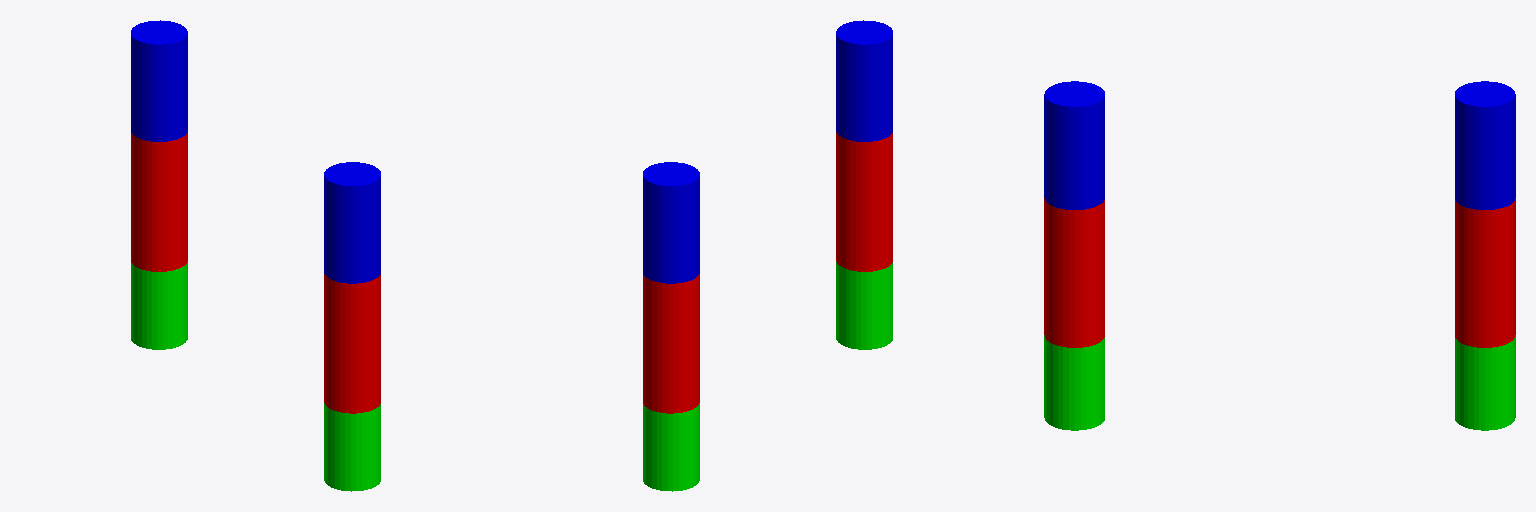
robot.urdf — human_model:
<?xml version="1.0" ?>
<!-- =================================================================================== -->
<!-- |    This document was autogenerated by xacro from human_model.urdf.xacro         | -->
<!-- |    EDITING THIS FILE BY HAND IS NOT RECOMMENDED                                 | -->
<!-- =================================================================================== -->
<robot name="human_model" xmlns:xacro="http://www.ros.org/wiki/xacro">
  <gazebo>
    <plugin filename="libgazebo_ros_control.so" name="gazebo_ros_control">
      <robotNamespace>/</robotNamespace>
      <robotSimType>gazebo_ros_control/DefaultRobotHWSim</robotSimType>
      <legacyModeNS>true</legacyModeNS>
    </plugin>
  </gazebo>
  <!-- The arm should be attached to world frame, 
     and the shoulder position should be specified by (x,y,z)
     via three prismatic joints.
-->
  <param name="pi" value="3.14159"/>
  <!-- World link-->
  <link name="world"/>
  <!-- Human model base -->
  <link name="human_base_link">
    <inertial>
      <origin rpy="0 0 0" xyz="0 0 0"/>
      <mass value="1"/>
      <inertia ixx="1.0" ixy="0.0" ixz="0.0" iyy="1.0" iyz="0.0" izz="1.0"/>
    </inertial>
  </link>
  <joint name="human_base_fixed_joint" type="fixed">
    <origin rpy="0 0 0" xyz="0 0 0"/>
    <parent link="world"/>
    <child link="human_base_link"/>
  </joint>
  <!-- Shoulder joints -->
  <link name="left_shoulder_1_link">
    <inertial>
      <origin rpy="0 0 0" xyz="0 0 0"/>
      <mass value="1"/>
      <inertia ixx="1.0" ixy="0.0" ixz="0.0" iyy="1.0" iyz="0.0" izz="1.0"/>
    </inertial>
  </link>
  <joint name="left_shoulder_1_joint" type="revolute">
    <origin rpy="0 0 0" xyz="0 0.27 1.3"/>
    <axis xyz="0 1 0"/>
    <parent link="human_base_link"/>
    <child link="left_shoulder_1_link"/>
    <limit effort="100" lower="-1.57079632679" upper="0.785398163397" velocity="100"/>
  </joint>
  <link name="left_shoulder_2_link">
    <inertial>
      <origin rpy="0 0 0" xyz="0 0 0"/>
      <mass value="1"/>
      <inertia ixx="1.0" ixy="0.0" ixz="0.0" iyy="1.0" iyz="0.0" izz="1.0"/>
    </inertial>
  </link>
  <joint name="left_shoulder_2_joint" type="revolute">
    <origin rpy="0 0 0" xyz="0 0 0"/>
    <axis xyz="-1 0 0"/>
    <parent link="left_shoulder_1_link"/>
    <child link="left_shoulder_2_link"/>
    <limit effort="100" lower="-1.57079632679" upper="1.57079632679" velocity="100"/>
  </joint>
  <link name="left_shoulder_3_link"/>
  <joint name="left_shoulder_3_joint" type="revolute">
    <origin rpy="0 0 0" xyz="0 0 0"/>
    <axis xyz="0 0 -1"/>
    <parent link="left_shoulder_2_link"/>
    <child link="left_shoulder_3_link"/>
    <limit effort="100" lower="-1.57079632679" upper="1.57079632679" velocity="100"/>
  </joint>
  <!-- Upperarm link -->
  <link name="left_upperarm_link">
    <visual>
      <origin rpy="0 0 0" xyz="0 0 0"/>
      <geometry>
        <cylinder length="0.15" radius="0.04"/>
      </geometry>
      <material name="blue">
        <color rgba="0 0 1 1"/>
      </material>
    </visual>
    <collision>
      <origin rpy="0 0 0" xyz="0 0 0"/>
      <geometry>
        <cylinder length="0.15" radius="0.04"/>
      </geometry>
    </collision>
    <inertial>
      <origin rpy="0 0 0" xyz="0 0 0"/>
      <mass value="1"/>
      <inertia ixx="1.0" ixy="0.0" ixz="0.0" iyy="1.0" iyz="0.0" izz="1.0"/>
    </inertial>
  </link>
  <joint name="left_upperarm_fixed_joint" type="fixed">
    <origin rpy="0 0 0" xyz="0 0 -0.075"/>
    <parent link="left_shoulder_3_link"/>
    <child link="left_upperarm_link"/>
  </joint>
  <!-- Elbow joints -->
  <link name="left_elbow_1_link">
    <inertial>
      <origin rpy="0 0 0" xyz="0 0 0"/>
      <mass value="1"/>
      <inertia ixx="1.0" ixy="0.0" ixz="0.0" iyy="1.0" iyz="0.0" izz="1.0"/>
    </inertial>
  </link>
  <joint name="left_elbow_1_joint" type="revolute">
    <origin rpy="0 0 0" xyz="0 0 -0.075"/>
    <axis xyz="-1 0 0"/>
    <parent link="left_upperarm_link"/>
    <child link="left_elbow_1_link"/>
    <limit effort="100" lower="0.0" upper="2.09439510239" velocity="100"/>
  </joint>
  <link name="left_elbow_2_link">
    <inertial>
      <origin rpy="0 0 0" xyz="0 0 0"/>
      <mass value="1"/>
      <inertia ixx="1.0" ixy="0.0" ixz="0.0" iyy="1.0" iyz="0.0" izz="1.0"/>
    </inertial>
  </link>
  <joint name="left_elbow_2_joint" type="revolute">
    <origin rpy="0 0 0" xyz="0 0 0"/>
    <axis xyz="0 0 -1"/>
    <parent link="left_elbow_1_link"/>
    <child link="left_elbow_2_link"/>
    <limit effort="100" lower="-3.14159265359" upper="3.14159265359" velocity="100"/>
  </joint>
  <!-- Forearm link -->
  <link name="left_forearm_link">
    <visual>
      <origin rpy="0 0 0" xyz="0 0 0"/>
      <geometry>
        <cylinder length="0.2" radius="0.04"/>
      </geometry>
      <material name="red">
        <color rgba="1 0 0 1"/>
      </material>
    </visual>
    <collision>
      <origin rpy="0 0 0" xyz="0 0 0"/>
      <geometry>
        <cylinder length="0.2" radius="0.04"/>
      </geometry>
    </collision>
    <inertial>
      <origin rpy="0 0 0" xyz="0 0 0"/>
      <mass value="1"/>
      <inertia ixx="1.0" ixy="0.0" ixz="0.0" iyy="1.0" iyz="0.0" izz="1.0"/>
    </inertial>
  </link>
  <joint name="left_forearm_fixed_joint" type="fixed">
    <origin rpy="0 0 0" xyz="0 0 -0.1"/>
    <parent link="left_elbow_2_link"/>
    <child link="left_forearm_link"/>
  </joint>
  <!-- Wrist joints -->
  <link name="left_wrist_1_link">
    <inertial>
      <origin rpy="0 0 0" xyz="0 0 0"/>
      <mass value="1"/>
      <inertia ixx="1.0" ixy="0.0" ixz="0.0" iyy="1.0" iyz="0.0" izz="1.0"/>
    </inertial>
  </link>
  <joint name="left_wrist_1_joint" type="revolute">
    <origin rpy="0 0 0" xyz="0 0 -0.1"/>
    <axis xyz="-1 0 0"/>
    <parent link="left_forearm_link"/>
    <child link="left_wrist_1_link"/>
    <limit effort="100" lower="-1.57079632679" upper="1.57079632679" velocity="100"/>
  </joint>
  <link name="left_wrist_2_link">
    <inertial>
      <origin rpy="0 0 0" xyz="0 0 0"/>
      <mass value="1"/>
      <inertia ixx="1.0" ixy="0.0" ixz="0.0" iyy="1.0" iyz="0.0" izz="1.0"/>
    </inertial>
  </link>
  <joint name="left_wrist_2_joint" type="revolute">
    <origin rpy="0 0 0" xyz="0 0 0"/>
    <axis xyz="0 1 0"/>
    <parent link="left_wrist_1_link"/>
    <child link="left_wrist_2_link"/>
    <limit effort="100" lower="-0.785398163397" upper="0.785398163397" velocity="100"/>
  </joint>
  <!-- Hand link -->
  <link name="left_hand_link">
    <visual>
      <origin rpy="0 0 0" xyz="0 0 0"/>
      <geometry>
        <cylinder length="0.12" radius="0.04"/>
      </geometry>
      <material name="green">
        <color rgba="0 1 0 1"/>
      </material>
    </visual>
    <collision>
      <origin rpy="0 0 0" xyz="0 0 0"/>
      <geometry>
        <cylinder length="0.12" radius="0.04"/>
      </geometry>
    </collision>
    <inertial>
      <origin rpy="0 0 0" xyz="0 0 0"/>
      <mass value="1"/>
      <inertia ixx="1.0" ixy="0.0" ixz="0.0" iyy="1.0" iyz="0.0" izz="1.0"/>
    </inertial>
  </link>
  <joint name="left_hand_fixed_joint" type="fixed">
    <origin rpy="0 0 0" xyz="0 0 -0.06"/>
    <parent link="left_wrist_2_link"/>
    <child link="left_hand_link"/>
  </joint>
  <!-- Virtual hand tip -->
  <link name="left_virtual_hand_tip_link"/>
  <joint name="left_hand_tip_fixed_joint" type="fixed">
    <origin rpy="0 0 0" xyz="0 0 -0.06"/>
    <parent link="left_hand_link"/>
    <child link="left_virtual_hand_tip_link"/>
  </joint>
  <!-- Transmission information -->
  <!-- Shoulder joints -->
  <transmission name="left_shoulder_1_trans">
    <type>transmission_interface/SimpleTransmission</type>
    <joint name="left_shoulder_1_joint">
      <hardwareInterface>hardware_interface/PositionJointInterface</hardwareInterface>
    </joint>
    <actuator name="left_shoulder_1_actuator">
      <hardwareInterface>hardware_interface/PositionJointInterface</hardwareInterface>
      <mechanicalReduction>1</mechanicalReduction>
    </actuator>
  </transmission>
  <transmission name="left_shoulder_2_trans">
    <type>transmission_interface/SimpleTransmission</type>
    <joint name="left_shoulder_2_joint">
      <hardwareInterface>hardware_interface/PositionJointInterface</hardwareInterface>
    </joint>
    <actuator name="left_shoulder_2_actuator">
      <hardwareInterface>hardware_interface/PositionJointInterface</hardwareInterface>
      <mechanicalReduction>1</mechanicalReduction>
    </actuator>
  </transmission>
  <transmission name="left_shoulder_3_trans">
    <type>transmission_interface/SimpleTransmission</type>
    <joint name="left_shoulder_3_joint">
      <hardwareInterface>hardware_interface/PositionJointInterface</hardwareInterface>
    </joint>
    <actuator name="left_shoulder_3_actuator">
      <hardwareInterface>hardware_interface/PositionJointInterface</hardwareInterface>
      <mechanicalReduction>1</mechanicalReduction>
    </actuator>
  </transmission>
  <!-- Elbow joints -->
  <transmission name="left_elbow_1_trans">
    <type>transmission_interface/SimpleTransmission</type>
    <joint name="left_elbow_1_joint">
      <hardwareInterface>hardware_interface/PositionJointInterface</hardwareInterface>
    </joint>
    <actuator name="left_elbow_1_actuator">
      <hardwareInterface>hardware_interface/PositionJointInterface</hardwareInterface>
      <mechanicalReduction>1</mechanicalReduction>
    </actuator>
  </transmission>
  <transmission name="left_elbow_2_trans">
    <type>transmission_interface/SimpleTransmission</type>
    <joint name="left_elbow_2_joint">
      <hardwareInterface>hardware_interface/PositionJointInterface</hardwareInterface>
    </joint>
    <actuator name="left_elbow_2_actuator">
      <hardwareInterface>hardware_interface/PositionJointInterface</hardwareInterface>
      <mechanicalReduction>1</mechanicalReduction>
    </actuator>
  </transmission>
  <!-- Wrist joints -->
  <transmission name="left_wrist_1_trans">
    <type>transmission_interface/SimpleTransmission</type>
    <joint name="left_wrist_1_joint">
      <hardwareInterface>hardware_interface/PositionJointInterface</hardwareInterface>
    </joint>
    <actuator name="left_wrist_1_actuator">
      <hardwareInterface>hardware_interface/PositionJointInterface</hardwareInterface>
      <mechanicalReduction>1</mechanicalReduction>
    </actuator>
  </transmission>
  <transmission name="left_wrist_2_trans">
    <type>transmission_interface/SimpleTransmission</type>
    <joint name="left_wrist_2_joint">
      <hardwareInterface>hardware_interface/PositionJointInterface</hardwareInterface>
    </joint>
    <actuator name="left_wrist_2_actuator">
      <hardwareInterface>hardware_interface/PositionJointInterface</hardwareInterface>
      <mechanicalReduction>1</mechanicalReduction>
    </actuator>
  </transmission>
  <!-- Shoulder joints -->
  <link name="right_shoulder_1_link">
    <inertial>
      <origin rpy="0 0 0" xyz="0 0 0"/>
      <mass value="1"/>
      <inertia ixx="1.0" ixy="0.0" ixz="0.0" iyy="1.0" iyz="0.0" izz="1.0"/>
    </inertial>
  </link>
  <joint name="right_shoulder_1_joint" type="revolute">
    <origin rpy="0 0 0" xyz="0 -0.27 1.3"/>
    <axis xyz="0 1 0"/>
    <parent link="human_base_link"/>
    <child link="right_shoulder_1_link"/>
    <limit effort="100" lower="-1.57079632679" upper="0.785398163397" velocity="100"/>
  </joint>
  <link name="right_shoulder_2_link">
    <inertial>
      <origin rpy="0 0 0" xyz="0 0 0"/>
      <mass value="1"/>
      <inertia ixx="1.0" ixy="0.0" ixz="0.0" iyy="1.0" iyz="0.0" izz="1.0"/>
    </inertial>
  </link>
  <joint name="right_shoulder_2_joint" type="revolute">
    <origin rpy="0 0 0" xyz="0 0 0"/>
    <axis xyz="1 0 0"/>
    <parent link="right_shoulder_1_link"/>
    <child link="right_shoulder_2_link"/>
    <limit effort="100" lower="-1.57079632679" upper="1.57079632679" velocity="100"/>
  </joint>
  <link name="right_shoulder_3_link"/>
  <joint name="right_shoulder_3_joint" type="revolute">
    <origin rpy="0 0 0" xyz="0 0 0"/>
    <axis xyz="0 0 1"/>
    <parent link="right_shoulder_2_link"/>
    <child link="right_shoulder_3_link"/>
    <limit effort="100" lower="-1.57079632679" upper="1.57079632679" velocity="100"/>
  </joint>
  <!-- Upperarm link -->
  <link name="right_upperarm_link">
    <visual>
      <origin rpy="0 0 0" xyz="0 0 0"/>
      <geometry>
        <cylinder length="0.15" radius="0.04"/>
      </geometry>
      <material name="blue">
        <color rgba="0 0 1 1"/>
      </material>
    </visual>
    <collision>
      <origin rpy="0 0 0" xyz="0 0 0"/>
      <geometry>
        <cylinder length="0.15" radius="0.04"/>
      </geometry>
    </collision>
    <inertial>
      <origin rpy="0 0 0" xyz="0 0 0"/>
      <mass value="1"/>
      <inertia ixx="1.0" ixy="0.0" ixz="0.0" iyy="1.0" iyz="0.0" izz="1.0"/>
    </inertial>
  </link>
  <joint name="right_upperarm_fixed_joint" type="fixed">
    <origin rpy="0 0 0" xyz="0 0 -0.075"/>
    <parent link="right_shoulder_3_link"/>
    <child link="right_upperarm_link"/>
  </joint>
  <!-- Elbow joints -->
  <link name="right_elbow_1_link">
    <inertial>
      <origin rpy="0 0 0" xyz="0 0 0"/>
      <mass value="1"/>
      <inertia ixx="1.0" ixy="0.0" ixz="0.0" iyy="1.0" iyz="0.0" izz="1.0"/>
    </inertial>
  </link>
  <joint name="right_elbow_1_joint" type="revolute">
    <origin rpy="0 0 0" xyz="0 0 -0.075"/>
    <axis xyz="1 0 0"/>
    <parent link="right_upperarm_link"/>
    <child link="right_elbow_1_link"/>
    <limit effort="100" lower="0.0" upper="2.09439510239" velocity="100"/>
  </joint>
  <link name="right_elbow_2_link">
    <inertial>
      <origin rpy="0 0 0" xyz="0 0 0"/>
      <mass value="1"/>
      <inertia ixx="1.0" ixy="0.0" ixz="0.0" iyy="1.0" iyz="0.0" izz="1.0"/>
    </inertial>
  </link>
  <joint name="right_elbow_2_joint" type="revolute">
    <origin rpy="0 0 0" xyz="0 0 0"/>
    <axis xyz="0 0 1"/>
    <parent link="right_elbow_1_link"/>
    <child link="right_elbow_2_link"/>
    <limit effort="100" lower="-3.14159265359" upper="3.14159265359" velocity="100"/>
  </joint>
  <!-- Forearm link -->
  <link name="right_forearm_link">
    <visual>
      <origin rpy="0 0 0" xyz="0 0 0"/>
      <geometry>
        <cylinder length="0.2" radius="0.04"/>
      </geometry>
      <material name="red">
        <color rgba="1 0 0 1"/>
      </material>
    </visual>
    <collision>
      <origin rpy="0 0 0" xyz="0 0 0"/>
      <geometry>
        <cylinder length="0.2" radius="0.04"/>
      </geometry>
    </collision>
    <inertial>
      <origin rpy="0 0 0" xyz="0 0 0"/>
      <mass value="1"/>
      <inertia ixx="1.0" ixy="0.0" ixz="0.0" iyy="1.0" iyz="0.0" izz="1.0"/>
    </inertial>
  </link>
  <joint name="right_forearm_fixed_joint" type="fixed">
    <origin rpy="0 0 0" xyz="0 0 -0.1"/>
    <parent link="right_elbow_2_link"/>
    <child link="right_forearm_link"/>
  </joint>
  <!-- Wrist joints -->
  <link name="right_wrist_1_link">
    <inertial>
      <origin rpy="0 0 0" xyz="0 0 0"/>
      <mass value="1"/>
      <inertia ixx="1.0" ixy="0.0" ixz="0.0" iyy="1.0" iyz="0.0" izz="1.0"/>
    </inertial>
  </link>
  <joint name="right_wrist_1_joint" type="revolute">
    <origin rpy="0 0 0" xyz="0 0 -0.1"/>
    <axis xyz="1 0 0"/>
    <parent link="right_forearm_link"/>
    <child link="right_wrist_1_link"/>
    <limit effort="100" lower="-1.57079632679" upper="1.57079632679" velocity="100"/>
  </joint>
  <link name="right_wrist_2_link">
    <inertial>
      <origin rpy="0 0 0" xyz="0 0 0"/>
      <mass value="1"/>
      <inertia ixx="1.0" ixy="0.0" ixz="0.0" iyy="1.0" iyz="0.0" izz="1.0"/>
    </inertial>
  </link>
  <joint name="right_wrist_2_joint" type="revolute">
    <origin rpy="0 0 0" xyz="0 0 0"/>
    <axis xyz="0 1 0"/>
    <parent link="right_wrist_1_link"/>
    <child link="right_wrist_2_link"/>
    <limit effort="100" lower="-0.785398163397" upper="0.785398163397" velocity="100"/>
  </joint>
  <!-- Hand link -->
  <link name="right_hand_link">
    <visual>
      <origin rpy="0 0 0" xyz="0 0 0"/>
      <geometry>
        <cylinder length="0.12" radius="0.04"/>
      </geometry>
      <material name="green">
        <color rgba="0 1 0 1"/>
      </material>
    </visual>
    <collision>
      <origin rpy="0 0 0" xyz="0 0 0"/>
      <geometry>
        <cylinder length="0.12" radius="0.04"/>
      </geometry>
    </collision>
    <inertial>
      <origin rpy="0 0 0" xyz="0 0 0"/>
      <mass value="1"/>
      <inertia ixx="1.0" ixy="0.0" ixz="0.0" iyy="1.0" iyz="0.0" izz="1.0"/>
    </inertial>
  </link>
  <joint name="right_hand_fixed_joint" type="fixed">
    <origin rpy="0 0 0" xyz="0 0 -0.06"/>
    <parent link="right_wrist_2_link"/>
    <child link="right_hand_link"/>
  </joint>
  <!-- Virtual hand tip -->
  <link name="right_virtual_hand_tip_link"/>
  <joint name="right_hand_tip_fixed_joint" type="fixed">
    <origin rpy="0 0 0" xyz="0 0 -0.06"/>
    <parent link="right_hand_link"/>
    <child link="right_virtual_hand_tip_link"/>
  </joint>
  <!-- Transmission information -->
  <!-- Shoulder joints -->
  <transmission name="right_shoulder_1_trans">
    <type>transmission_interface/SimpleTransmission</type>
    <joint name="right_shoulder_1_joint">
      <hardwareInterface>hardware_interface/PositionJointInterface</hardwareInterface>
    </joint>
    <actuator name="right_shoulder_1_actuator">
      <hardwareInterface>hardware_interface/PositionJointInterface</hardwareInterface>
      <mechanicalReduction>1</mechanicalReduction>
    </actuator>
  </transmission>
  <transmission name="right_shoulder_2_trans">
    <type>transmission_interface/SimpleTransmission</type>
    <joint name="right_shoulder_2_joint">
      <hardwareInterface>hardware_interface/PositionJointInterface</hardwareInterface>
    </joint>
    <actuator name="right_shoulder_2_actuator">
      <hardwareInterface>hardware_interface/PositionJointInterface</hardwareInterface>
      <mechanicalReduction>1</mechanicalReduction>
    </actuator>
  </transmission>
  <transmission name="right_shoulder_3_trans">
    <type>transmission_interface/SimpleTransmission</type>
    <joint name="right_shoulder_3_joint">
      <hardwareInterface>hardware_interface/PositionJointInterface</hardwareInterface>
    </joint>
    <actuator name="right_shoulder_3_actuator">
      <hardwareInterface>hardware_interface/PositionJointInterface</hardwareInterface>
      <mechanicalReduction>1</mechanicalReduction>
    </actuator>
  </transmission>
  <!-- Elbow joints -->
  <transmission name="right_elbow_1_trans">
    <type>transmission_interface/SimpleTransmission</type>
    <joint name="right_elbow_1_joint">
      <hardwareInterface>hardware_interface/PositionJointInterface</hardwareInterface>
    </joint>
    <actuator name="right_elbow_1_actuator">
      <hardwareInterface>hardware_interface/PositionJointInterface</hardwareInterface>
      <mechanicalReduction>1</mechanicalReduction>
    </actuator>
  </transmission>
  <transmission name="right_elbow_2_trans">
    <type>transmission_interface/SimpleTransmission</type>
    <joint name="right_elbow_2_joint">
      <hardwareInterface>hardware_interface/PositionJointInterface</hardwareInterface>
    </joint>
    <actuator name="right_elbow_2_actuator">
      <hardwareInterface>hardware_interface/PositionJointInterface</hardwareInterface>
      <mechanicalReduction>1</mechanicalReduction>
    </actuator>
  </transmission>
  <!-- Wrist joints -->
  <transmission name="right_wrist_1_trans">
    <type>transmission_interface/SimpleTransmission</type>
    <joint name="right_wrist_1_joint">
      <hardwareInterface>hardware_interface/PositionJointInterface</hardwareInterface>
    </joint>
    <actuator name="right_wrist_1_actuator">
      <hardwareInterface>hardware_interface/PositionJointInterface</hardwareInterface>
      <mechanicalReduction>1</mechanicalReduction>
    </actuator>
  </transmission>
  <transmission name="right_wrist_2_trans">
    <type>transmission_interface/SimpleTransmission</type>
    <joint name="right_wrist_2_joint">
      <hardwareInterface>hardware_interface/PositionJointInterface</hardwareInterface>
    </joint>
    <actuator name="right_wrist_2_actuator">
      <hardwareInterface>hardware_interface/PositionJointInterface</hardwareInterface>
      <mechanicalReduction>1</mechanicalReduction>
    </actuator>
  </transmission>
</robot>

--- Facts derived from the render (not from the file) ---
Views: 3 orthographic renders of the robot side by side, from view 1: azimuth 30°, elevation 25°; view 2: azimuth 150°, elevation 25°; view 3: azimuth 270°, elevation 25°.
Robot: human_model — 24 links, 23 joints (14 revolute, 9 fixed); root link world; default pose: every joint at zero.
Links seen in each view (by area): view 1: left_forearm_link, right_forearm_link, right_upperarm_link, left_upperarm_link, left_hand_link, right_hand_link; view 2: right_forearm_link, left_forearm_link, left_upperarm_link, right_upperarm_link, right_hand_link, left_hand_link; view 3: left_forearm_link, right_forearm_link, left_upperarm_link, right_upperarm_link, left_hand_link, right_hand_link.
Link boxes in pixels (box(x1,y1,x2,y2)): left_forearm_link: box(131, 132, 187, 271); right_forearm_link: box(324, 274, 380, 413); right_upperarm_link: box(324, 162, 380, 283); left_upperarm_link: box(131, 20, 187, 141); left_hand_link: box(131, 262, 187, 349); right_hand_link: box(324, 403, 380, 491); right_forearm_link: box(836, 132, 892, 271); left_forearm_link: box(643, 274, 699, 413); left_upperarm_link: box(643, 162, 699, 283); right_upperarm_link: box(836, 20, 892, 141); right_hand_link: box(836, 262, 892, 349); left_hand_link: box(643, 403, 699, 491); left_forearm_link: box(1455, 198, 1515, 347); right_forearm_link: box(1044, 198, 1104, 347); left_upperarm_link: box(1455, 81, 1515, 209); right_upperarm_link: box(1044, 81, 1104, 209); left_hand_link: box(1455, 335, 1515, 430); right_hand_link: box(1044, 335, 1104, 430).
Size in the robot's own frame: 0.08 by 0.62 by 0.47 metres.
Geometry: primitives only (box / cylinder / sphere), no mesh files.